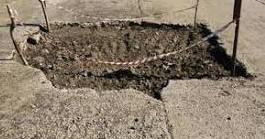crack: (158, 104, 176, 139), (137, 1, 144, 18)
pothole: (12, 20, 255, 102)
